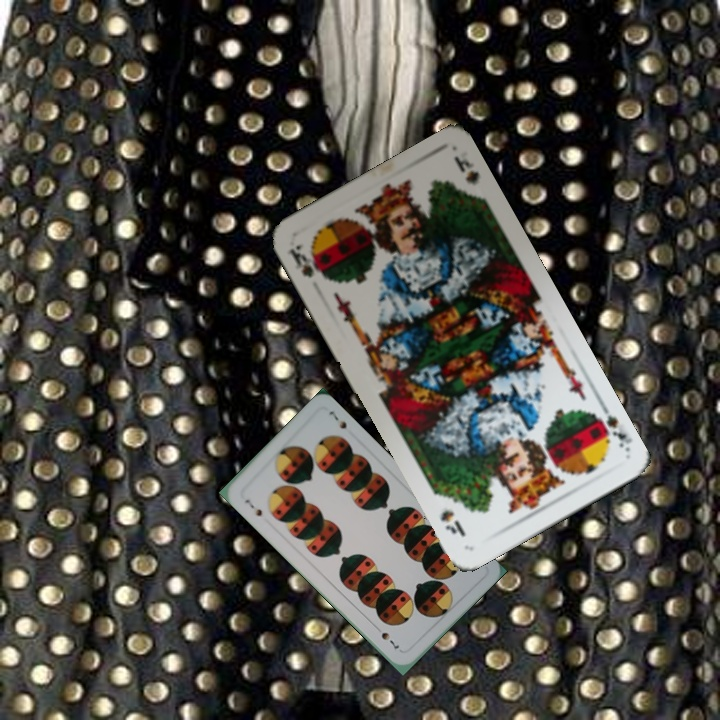S7: (240, 495, 265, 519)
SK: (586, 400, 633, 454), (284, 239, 329, 283)
